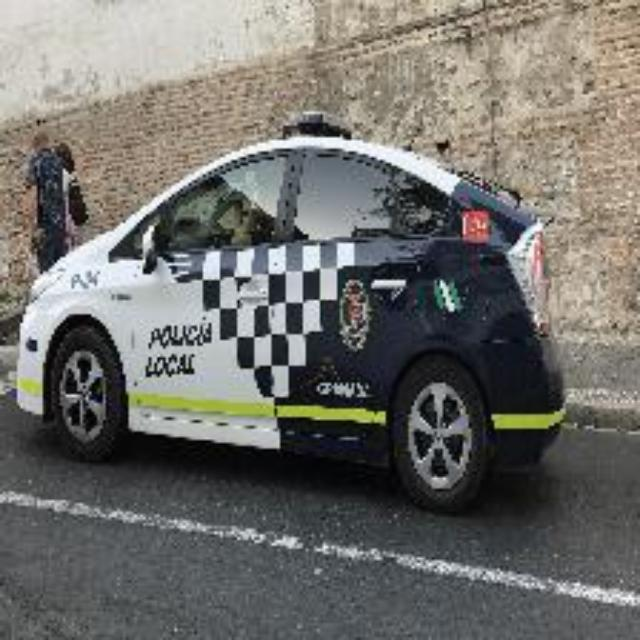emergency: (38, 112, 554, 530)
